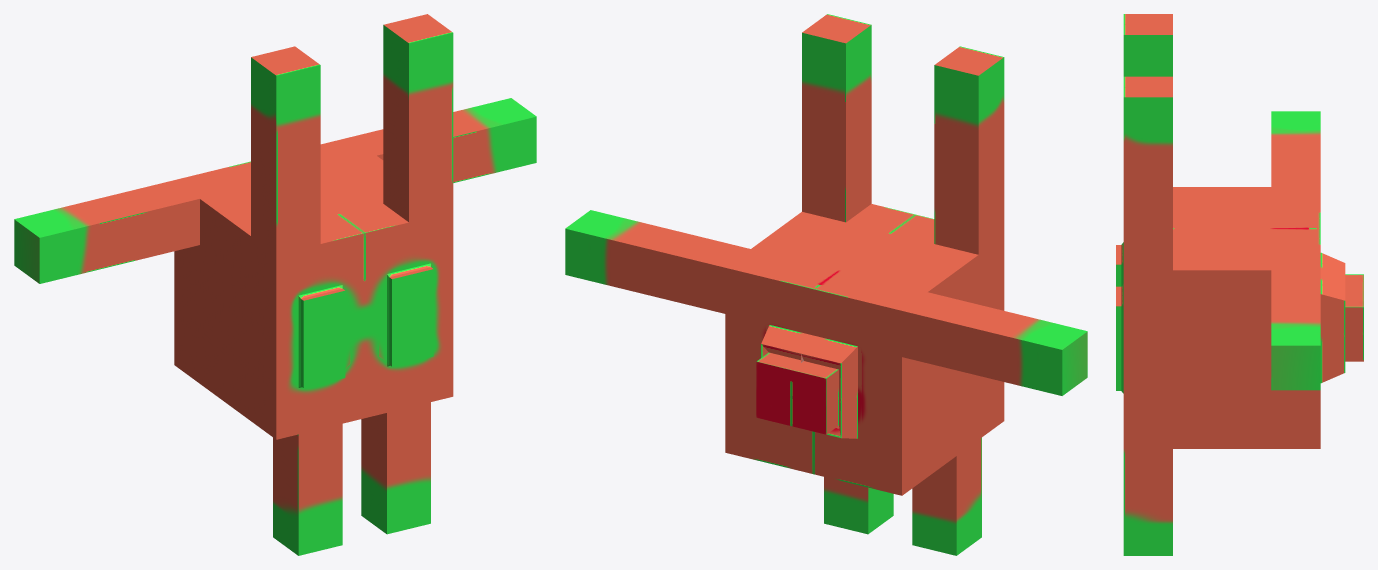
File: baddy.fbx
3 renders of one model, left to right at view 1: azimuth 30°, elevation 25°; view 2: azimuth 150°, elevation 25°; view 3: azimuth 270°, elevation 25°, orthographic. The views are drawn at different scales.
Visible parts, largest first — view 1: Cube; view 2: Cube; view 3: Cube.
Boxes of the visible parts, bbox=[...] form: Cube: bbox=[14, 14, 536, 555]; Cube: bbox=[565, 14, 1087, 555]; Cube: bbox=[1116, 14, 1363, 555].
Size of the model in its own units: 562 by 525 by 251.
Materials: 1 (1 with a texture image).
